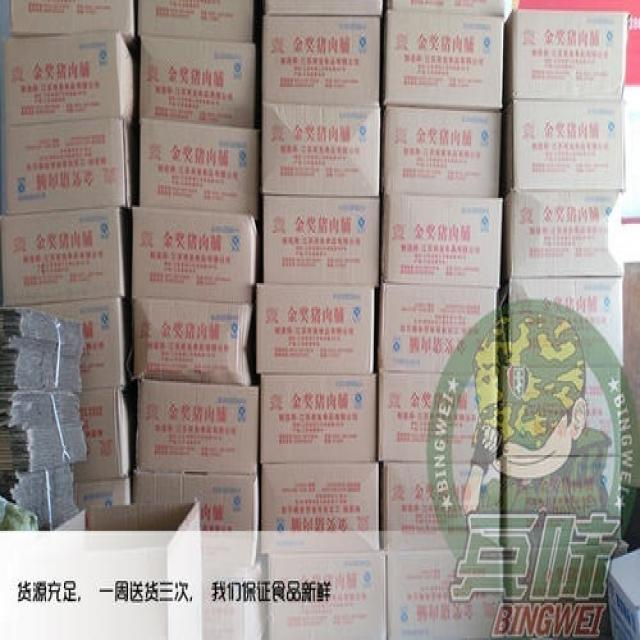box: (0, 207, 129, 307), (5, 117, 132, 215), (132, 207, 259, 305), (5, 30, 133, 126), (140, 118, 260, 218), (138, 379, 260, 477), (380, 192, 503, 289), (503, 9, 628, 104), (504, 100, 627, 196), (384, 11, 503, 109), (260, 100, 380, 196), (378, 281, 498, 375), (262, 15, 383, 107), (500, 366, 622, 457), (381, 107, 502, 198), (132, 296, 252, 387), (140, 35, 256, 129), (264, 194, 381, 287), (257, 283, 375, 374), (378, 372, 498, 461), (508, 277, 625, 368), (387, 549, 504, 640), (260, 374, 378, 464), (506, 191, 625, 279), (269, 553, 387, 640), (26, 298, 129, 390), (381, 461, 502, 531), (262, 462, 379, 531), (133, 470, 260, 531), (72, 385, 129, 485), (10, 0, 134, 44), (138, 0, 253, 43), (52, 499, 201, 531), (385, 0, 506, 17), (265, 0, 383, 17), (73, 477, 131, 511)
